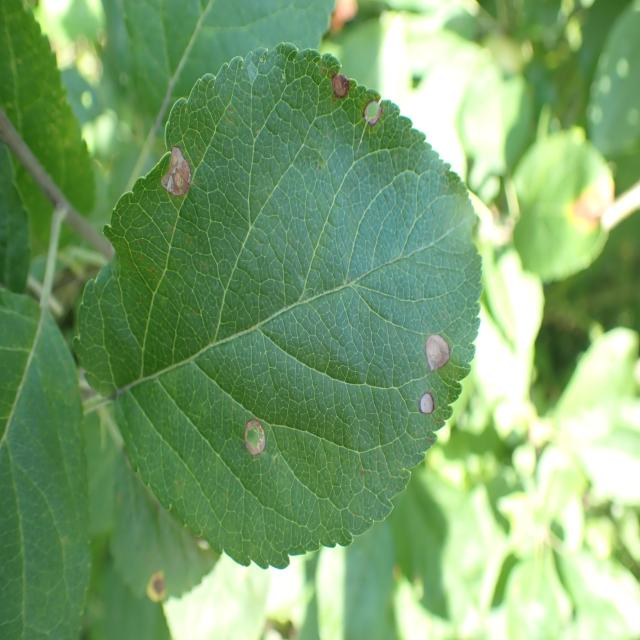Black Rot: (158, 132, 198, 217), (238, 402, 272, 480), (418, 330, 453, 380), (357, 82, 386, 140), (320, 65, 350, 110), (411, 389, 437, 438)
